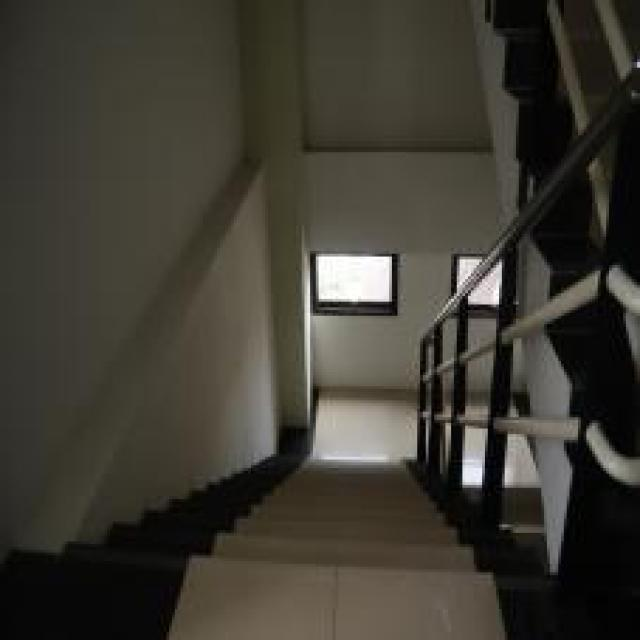downstair: (258, 469, 438, 633)
